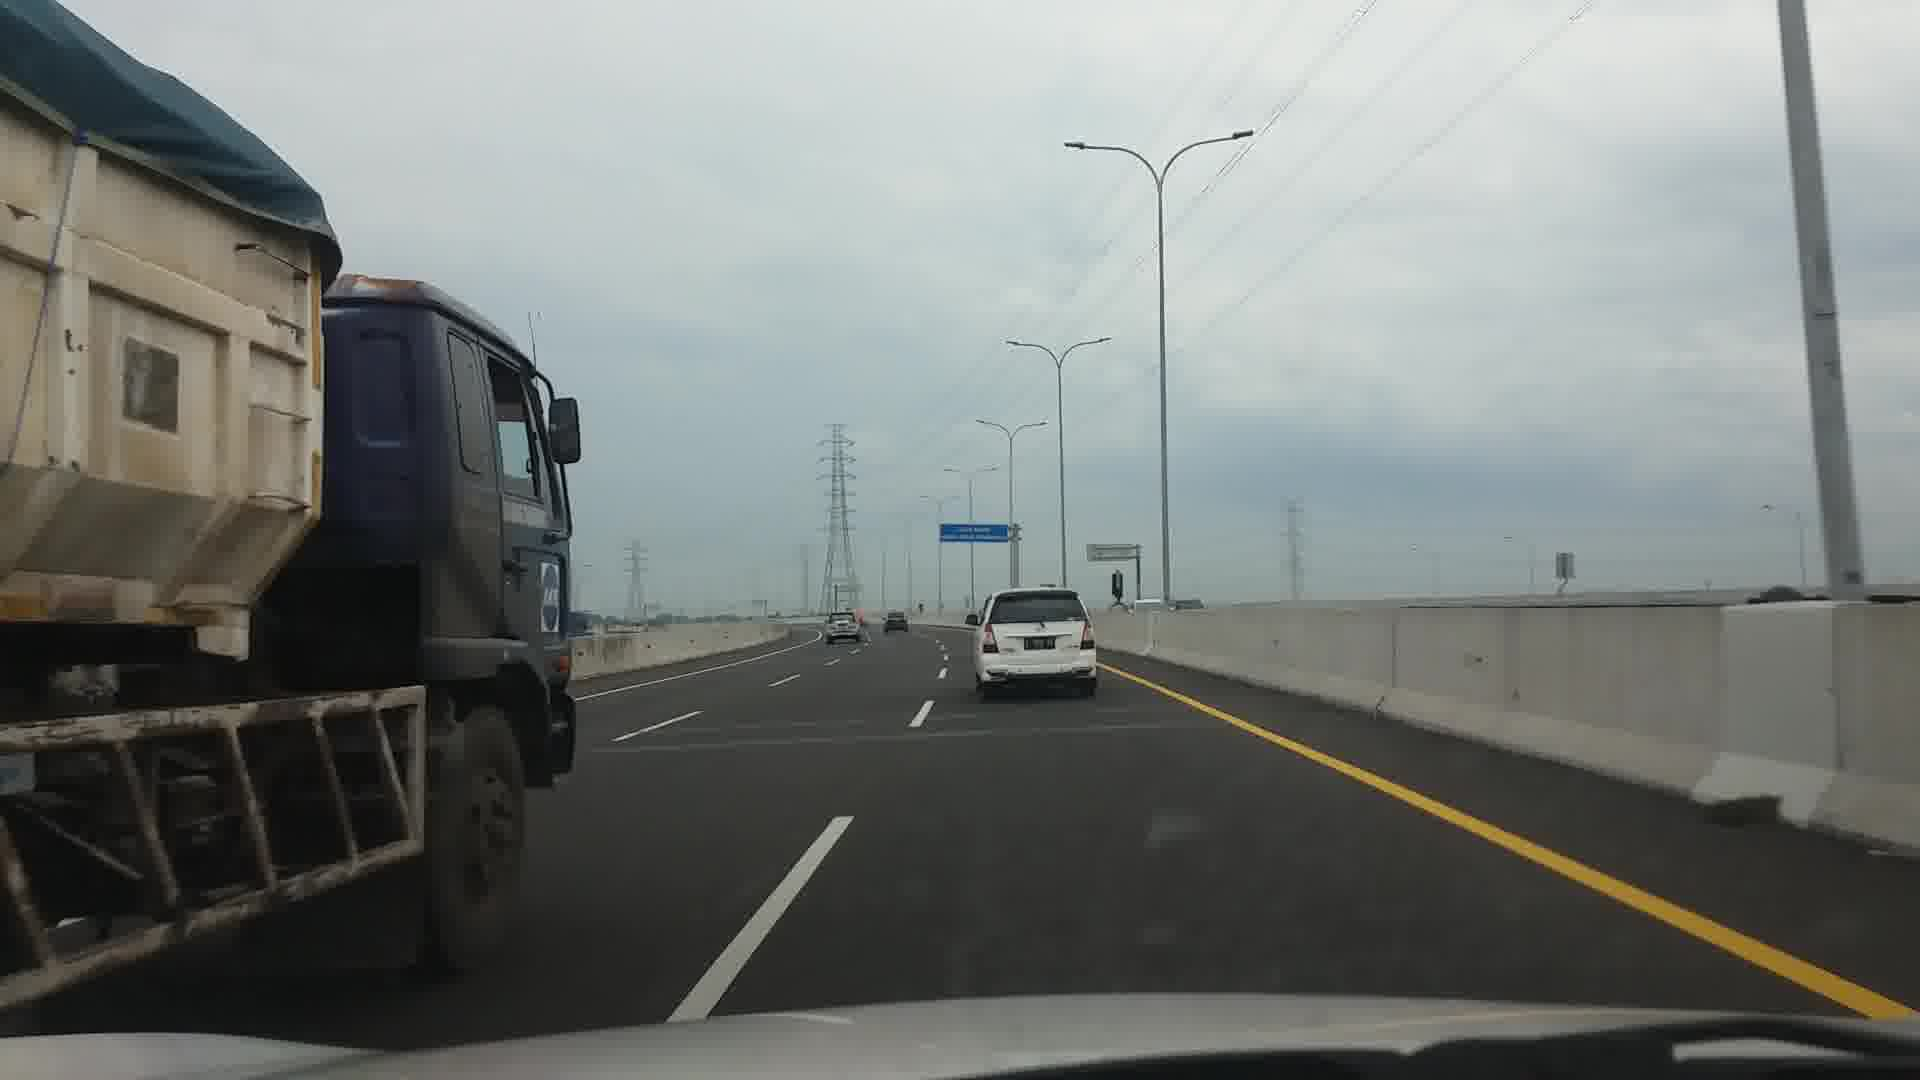plate_positive: (1025, 637, 1056, 650)
